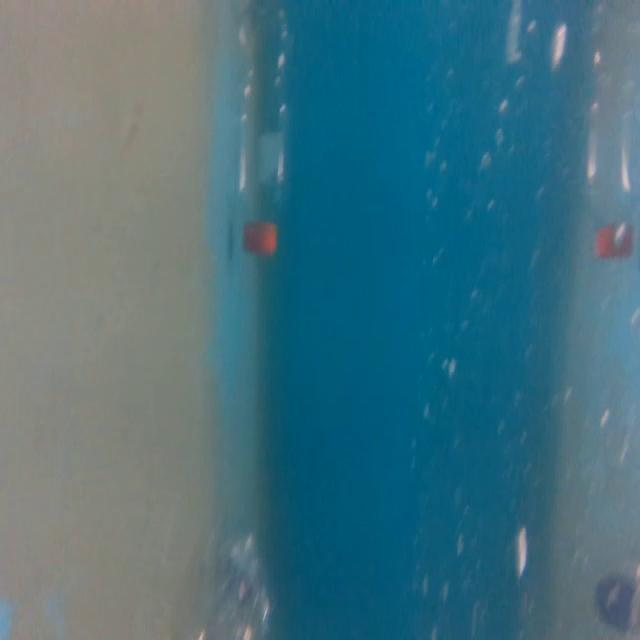plastic bottle: (233, 12, 304, 258)
